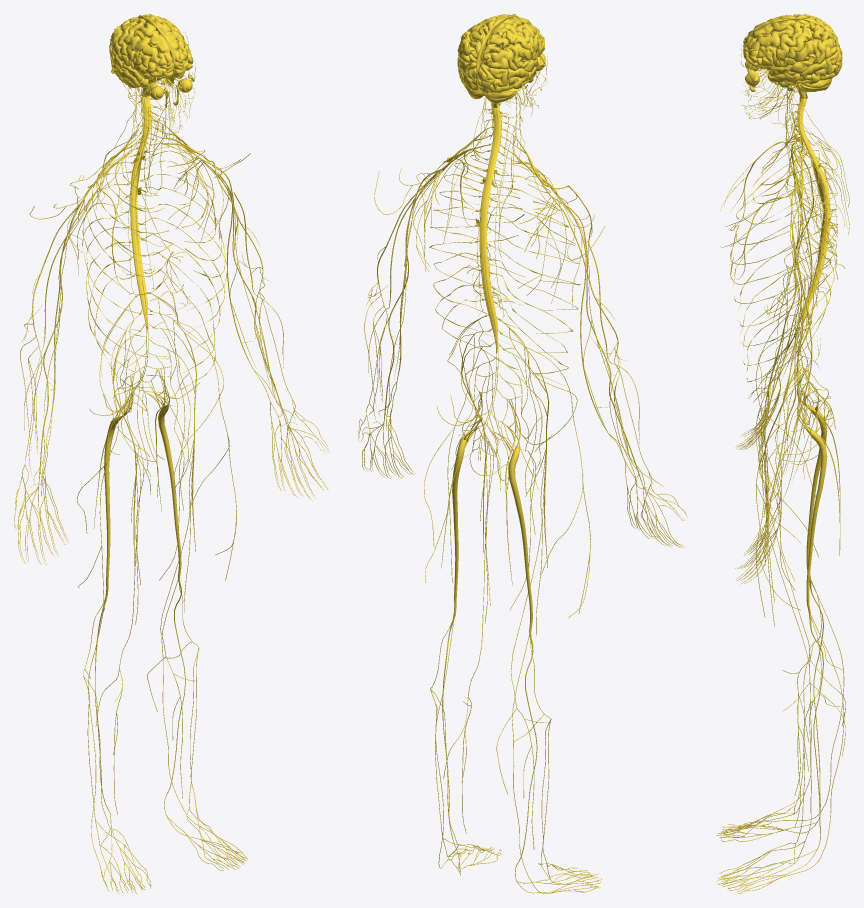
File: nerves.glb
3 renders of one model, left to right at view 1: azimuth 30°, elevation 25°; view 2: azimuth 150°, elevation 25°; view 3: azimuth 270°, elevation 25°, orthographic. The views are drawn at different scales.
Visible parts, largest first — view 1: Intercostal nerves.r.001, Spinal dura.001, Intercostal nerves.l.001, Sciatic nerve.r.001, Sciatic nerve.l.001; view 2: Spinal dura.001, Intercostal nerves.l.001, Intercostal nerves.r.001, Sciatic nerve.r.001, Sciatic nerve.l.001, Saphenous nerve.r.001; view 3: Spinal dura.001, Intercostal nerves.l.001, Intercostal nerves.r.001, Sciatic nerve.l.001, Sciatic nerve.r.001, Middle frontal gyrus.l.001, Saphenous nerve.l.001, Lateral femoral cutaneous nerve.l.001, Saphenous nerve.r.001, Median nerve.l.001, Middle temporal gyrus.l.001, Precentral gyrus.l.001 (+18 smaller).
Boxes of the visible parts, bbox=[...] form: Intercostal nerves.r.001: bbox=[82, 148, 173, 393]; Spinal dura.001: bbox=[130, 93, 151, 335]; Intercostal nerves.l.001: bbox=[142, 143, 227, 389]; Sciatic nerve.r.001: bbox=[104, 376, 132, 595]; Sciatic nerve.l.001: bbox=[146, 369, 181, 577]; Spinal dura.001: bbox=[475, 103, 501, 351]; Intercostal nerves.l.001: bbox=[429, 155, 524, 369]; Intercostal nerves.r.001: bbox=[491, 163, 580, 374]; Sciatic nerve.r.001: bbox=[495, 399, 532, 632]; Sciatic nerve.l.001: bbox=[452, 392, 481, 613]; Saphenous nerve.r.001: bbox=[496, 455, 545, 849]; Spinal dura.001: bbox=[797, 96, 830, 331]; Intercostal nerves.l.001: bbox=[730, 153, 837, 382]; Intercostal nerves.r.001: bbox=[730, 140, 837, 371]; Sciatic nerve.l.001: bbox=[797, 384, 827, 612]; Sciatic nerve.r.001: bbox=[797, 370, 827, 577]; Middle frontal gyrus.l.001: bbox=[745, 29, 793, 62]; Saphenous nerve.l.001: bbox=[762, 451, 845, 827]; Lateral femoral cutaneous nerve.l.001: bbox=[755, 340, 818, 617]; Saphenous nerve.r.001: bbox=[762, 423, 845, 795]; Median nerve.l.001: bbox=[769, 197, 802, 508]; Middle temporal gyrus.l.001: bbox=[773, 60, 827, 83]; Precentral gyrus.l.001: bbox=[776, 21, 804, 62].
Size of the model in its own units: 0.6675 by 1.7 by 0.2425.
